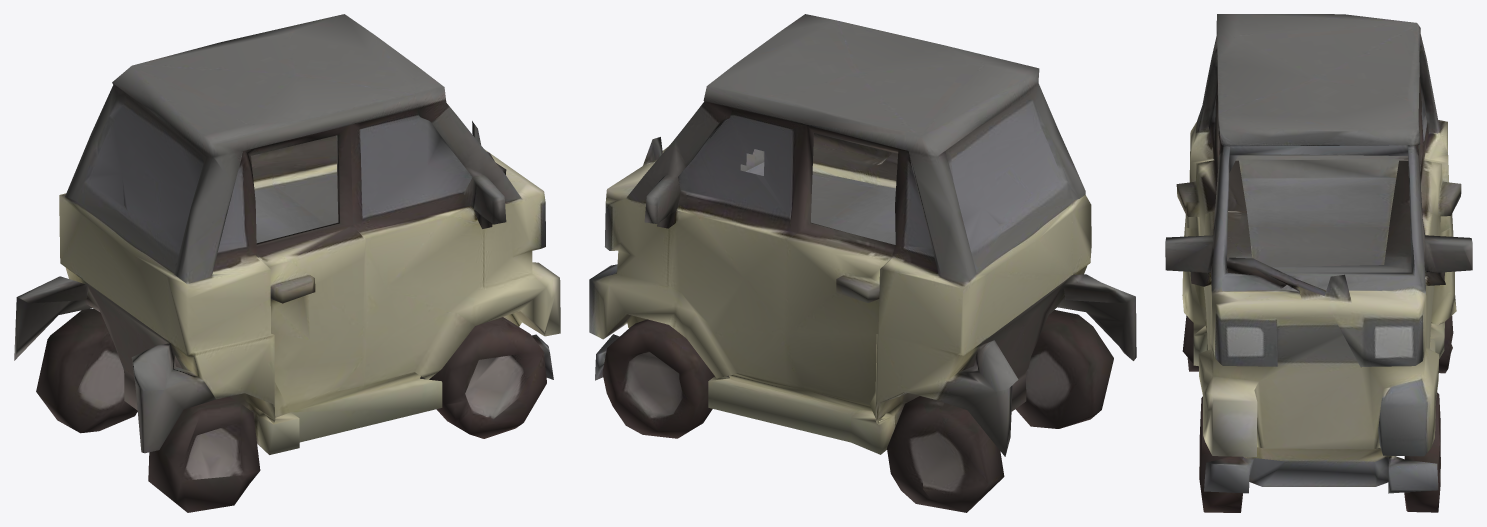
The model's file is hatchback.glb.
3 views of the same model, side by side, from view 1: azimuth 30°, elevation 25°; view 2: azimuth 150°, elevation 25°; view 3: azimuth 270°, elevation 25° (orthographic).
Parts seen in each view (by area): view 1: tripo_node_e81ffde7-78ee-433b-a358-14a0bbcf9a57; view 2: tripo_node_e81ffde7-78ee-433b-a358-14a0bbcf9a57; view 3: tripo_node_e81ffde7-78ee-433b-a358-14a0bbcf9a57.
Part boxes in pixels (x1=…): tripo_node_e81ffde7-78ee-433b-a358-14a0bbcf9a57: x1=14, y1=14, x2=560, y2=512; tripo_node_e81ffde7-78ee-433b-a358-14a0bbcf9a57: x1=589, y1=14, x2=1136, y2=512; tripo_node_e81ffde7-78ee-433b-a358-14a0bbcf9a57: x1=1165, y1=14, x2=1472, y2=512.
Bounding box in the file's own units: 1 × 0.789 × 0.6148.
1 material, 1 textured.
